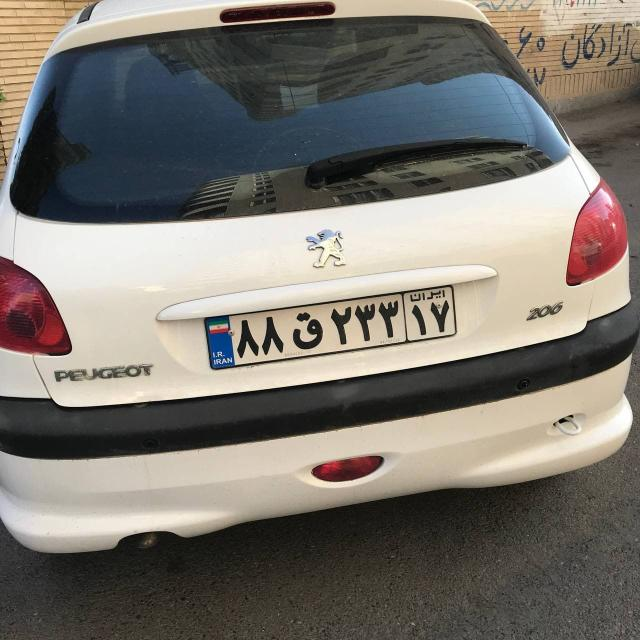Plates: (204, 283, 459, 369)
